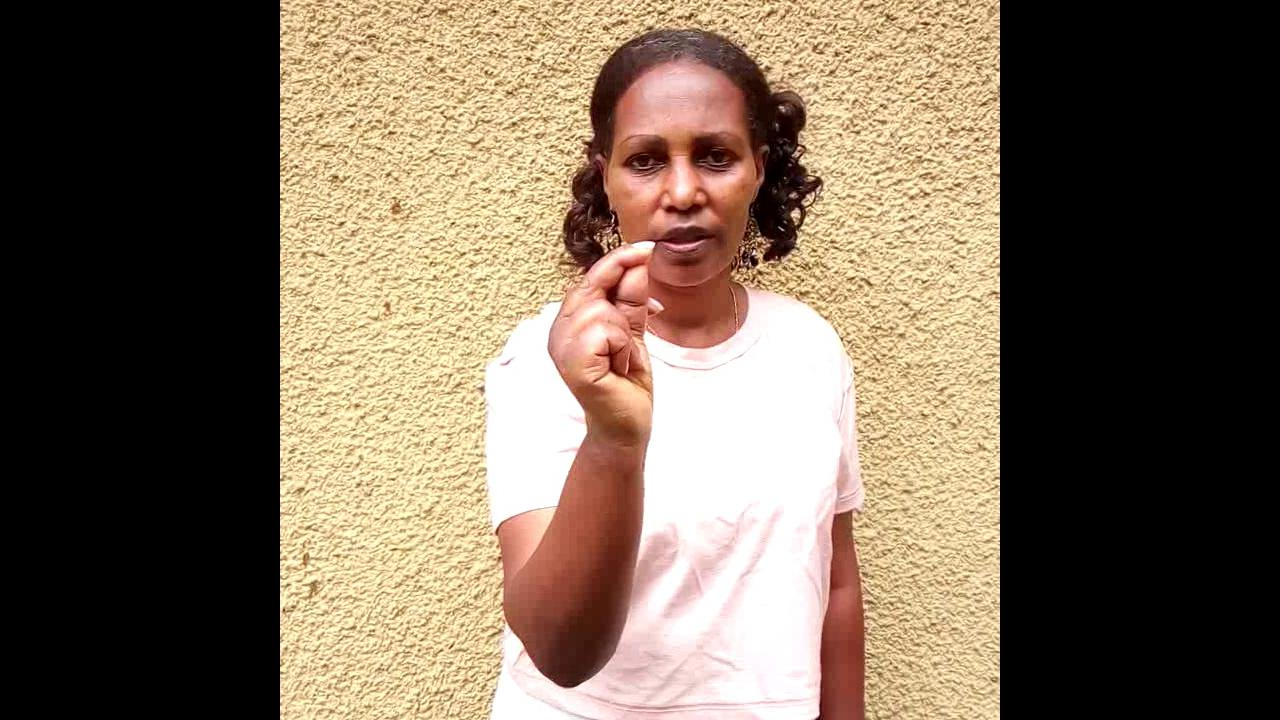CHE: (544, 241, 664, 542)
